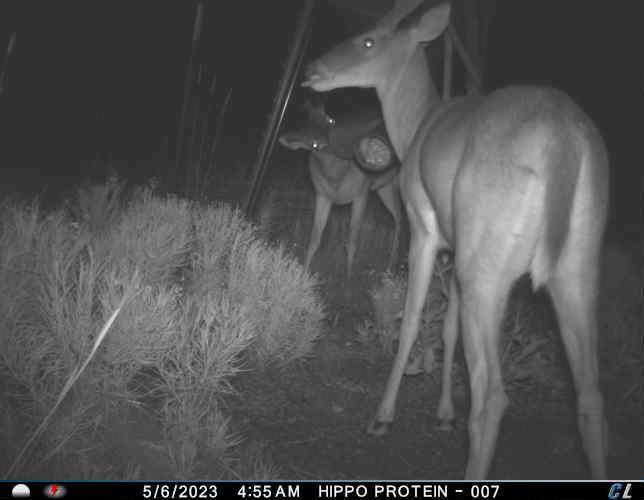Deer: (299, 0, 617, 481), (277, 94, 406, 281)
